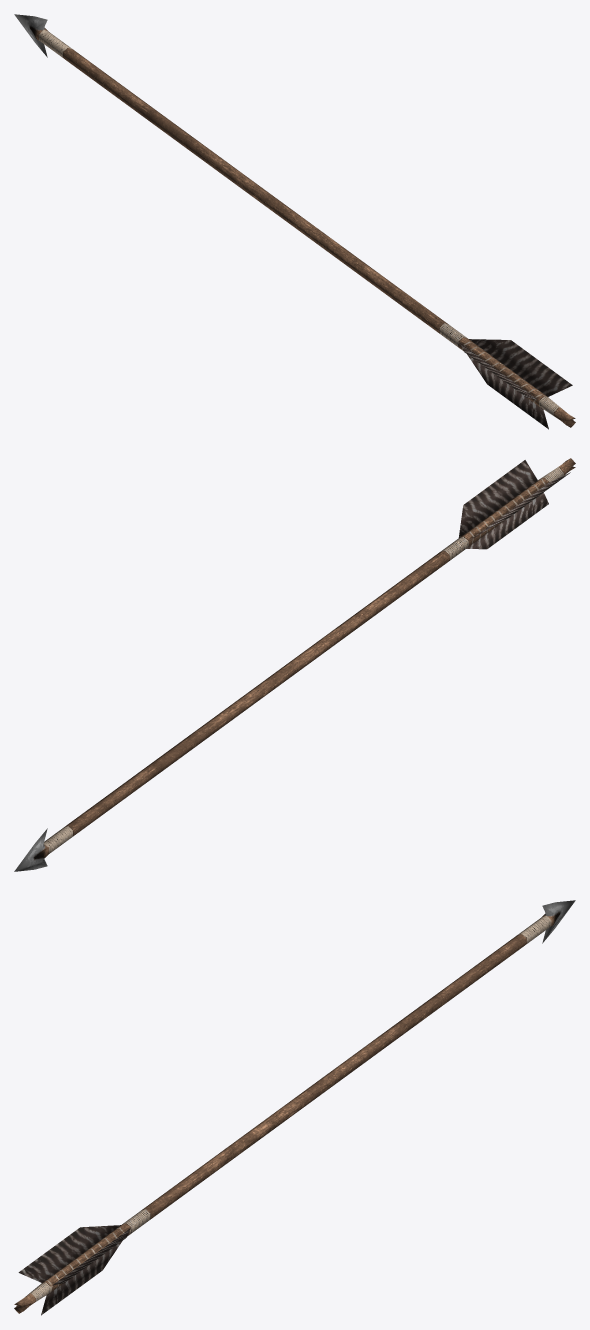
File: arrow_01.glb
3 renders of one model, top to bottom at view 1: azimuth 30°, elevation 25°; view 2: azimuth 150°, elevation 25°; view 3: azimuth 330°, elevation 25°, orthographic.
Visible parts, largest first — view 1: Arrow; view 2: Arrow; view 3: Arrow.
Part boxes in pixels (<box>): Arrow: <box>14,14,575,429</box>; Arrow: <box>14,458,575,871</box>; Arrow: <box>14,900,575,1315</box>.
Size of the model in its own units: 0.0386 by 0.0341 by 0.8008.
Materials: 1 (1 with a texture image).
